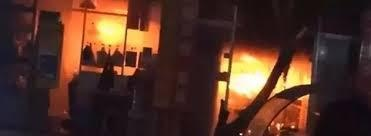fire: (215, 43, 311, 98), (93, 4, 128, 46)
